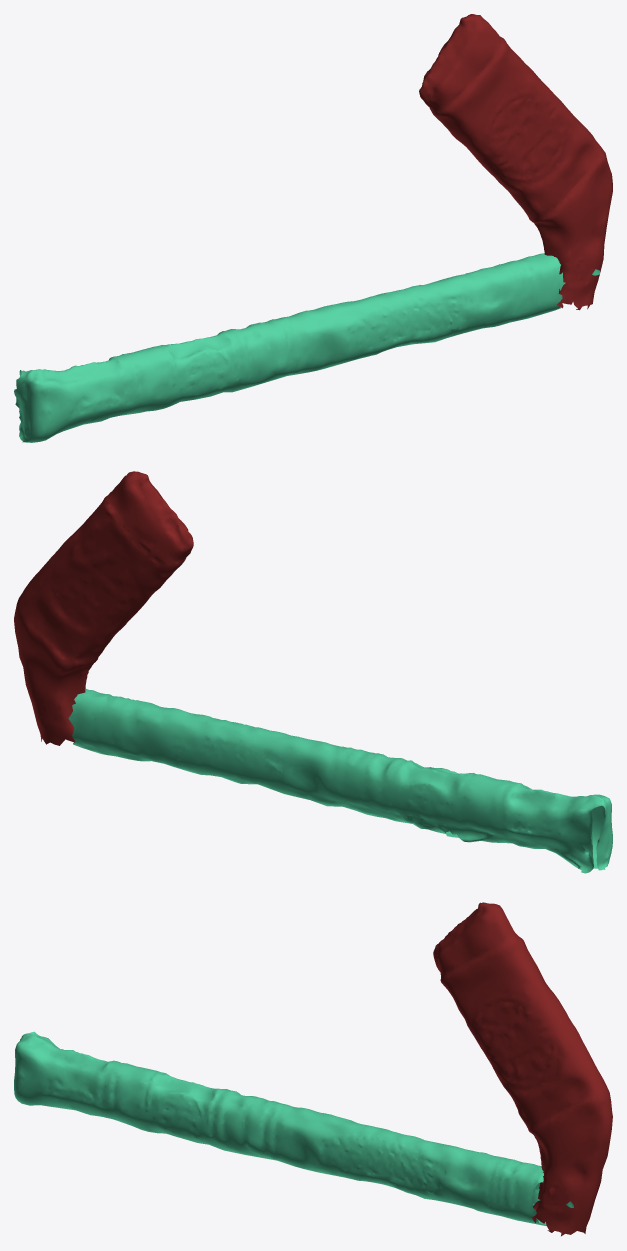
File: object_deformed_1.obj
3 renders of one model, top to bottom at view 1: azimuth 30°, elevation 25°; view 2: azimuth 150°, elevation 25°; view 3: azimuth 330°, elevation 25°, orthographic. The views are drawn at different scales.
Size of the model in its own units: 0.4586 by 0.2251 by 0.0513.
